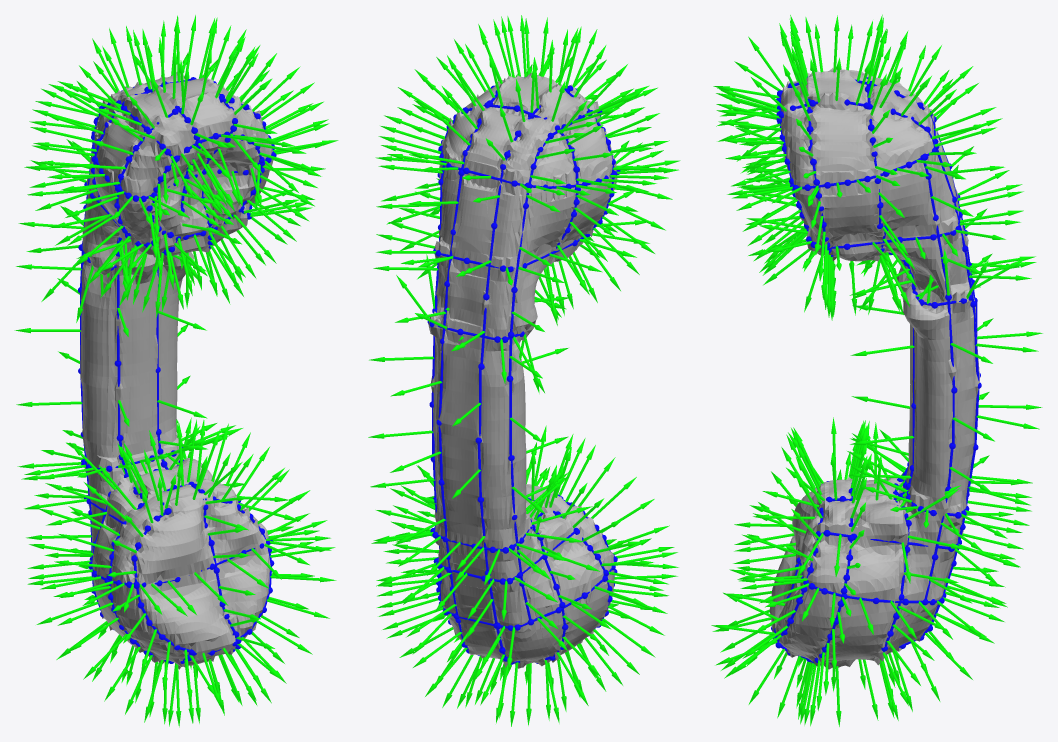
File: flowrep_phone.gltf
3 views of the same model, side by side, from view 1: azimuth 30°, elevation 25°; view 2: azimuth 150°, elevation 25°; view 3: azimuth 270°, elevation 25° (orthographic).
Bounding box in the file's own units: 0.4614 × 1.11 × 0.4905.
